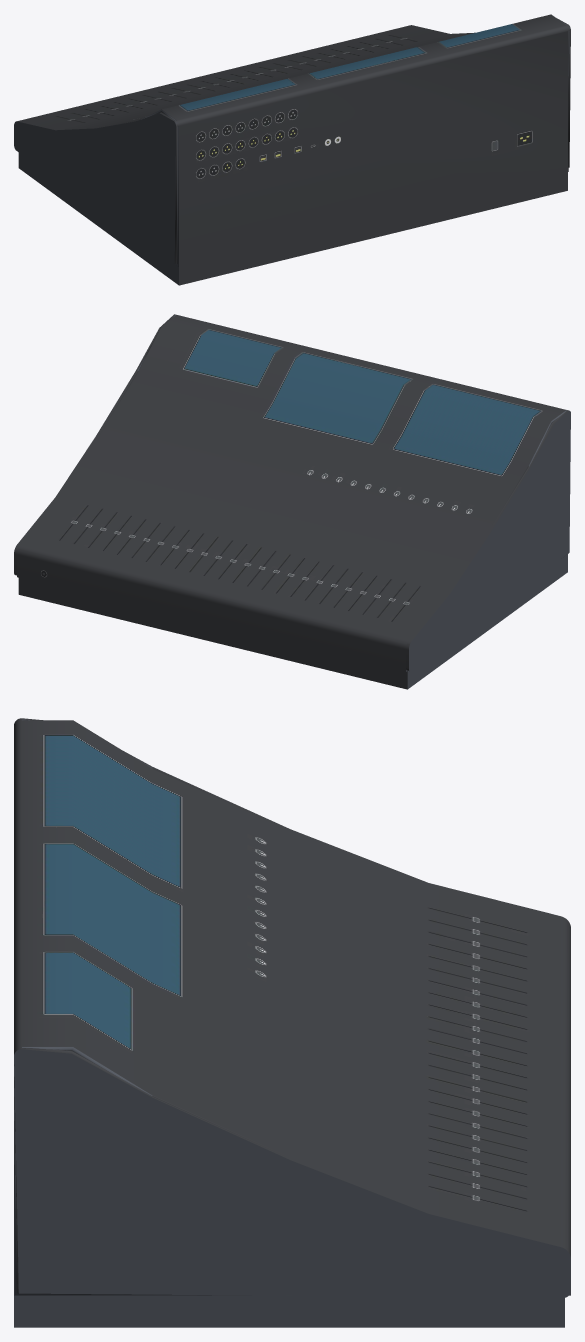
File: yamaha-dm7.glb
3 views of the same model, one above another, from view 1: azimuth 30°, elevation 25°; view 2: azimuth 150°, elevation 25°; view 3: azimuth 270°, elevation 25° (orthographic). The views are drawn at different scales.
Visible parts, largest first — view 1: yamaha-dm7-body; view 2: yamaha-dm7-body; view 3: yamaha-dm7-body.
Boxes of the visible parts, x1=… form: yamaha-dm7-body: x1=14, y1=14, x2=570, y2=285; yamaha-dm7-body: x1=14, y1=314, x2=570, y2=689; yamaha-dm7-body: x1=14, y1=718, x2=570, y2=1327.
Size of the model in its own units: 0.793 by 0.324 by 0.564.
Materials: 1 (1 with a texture image).
